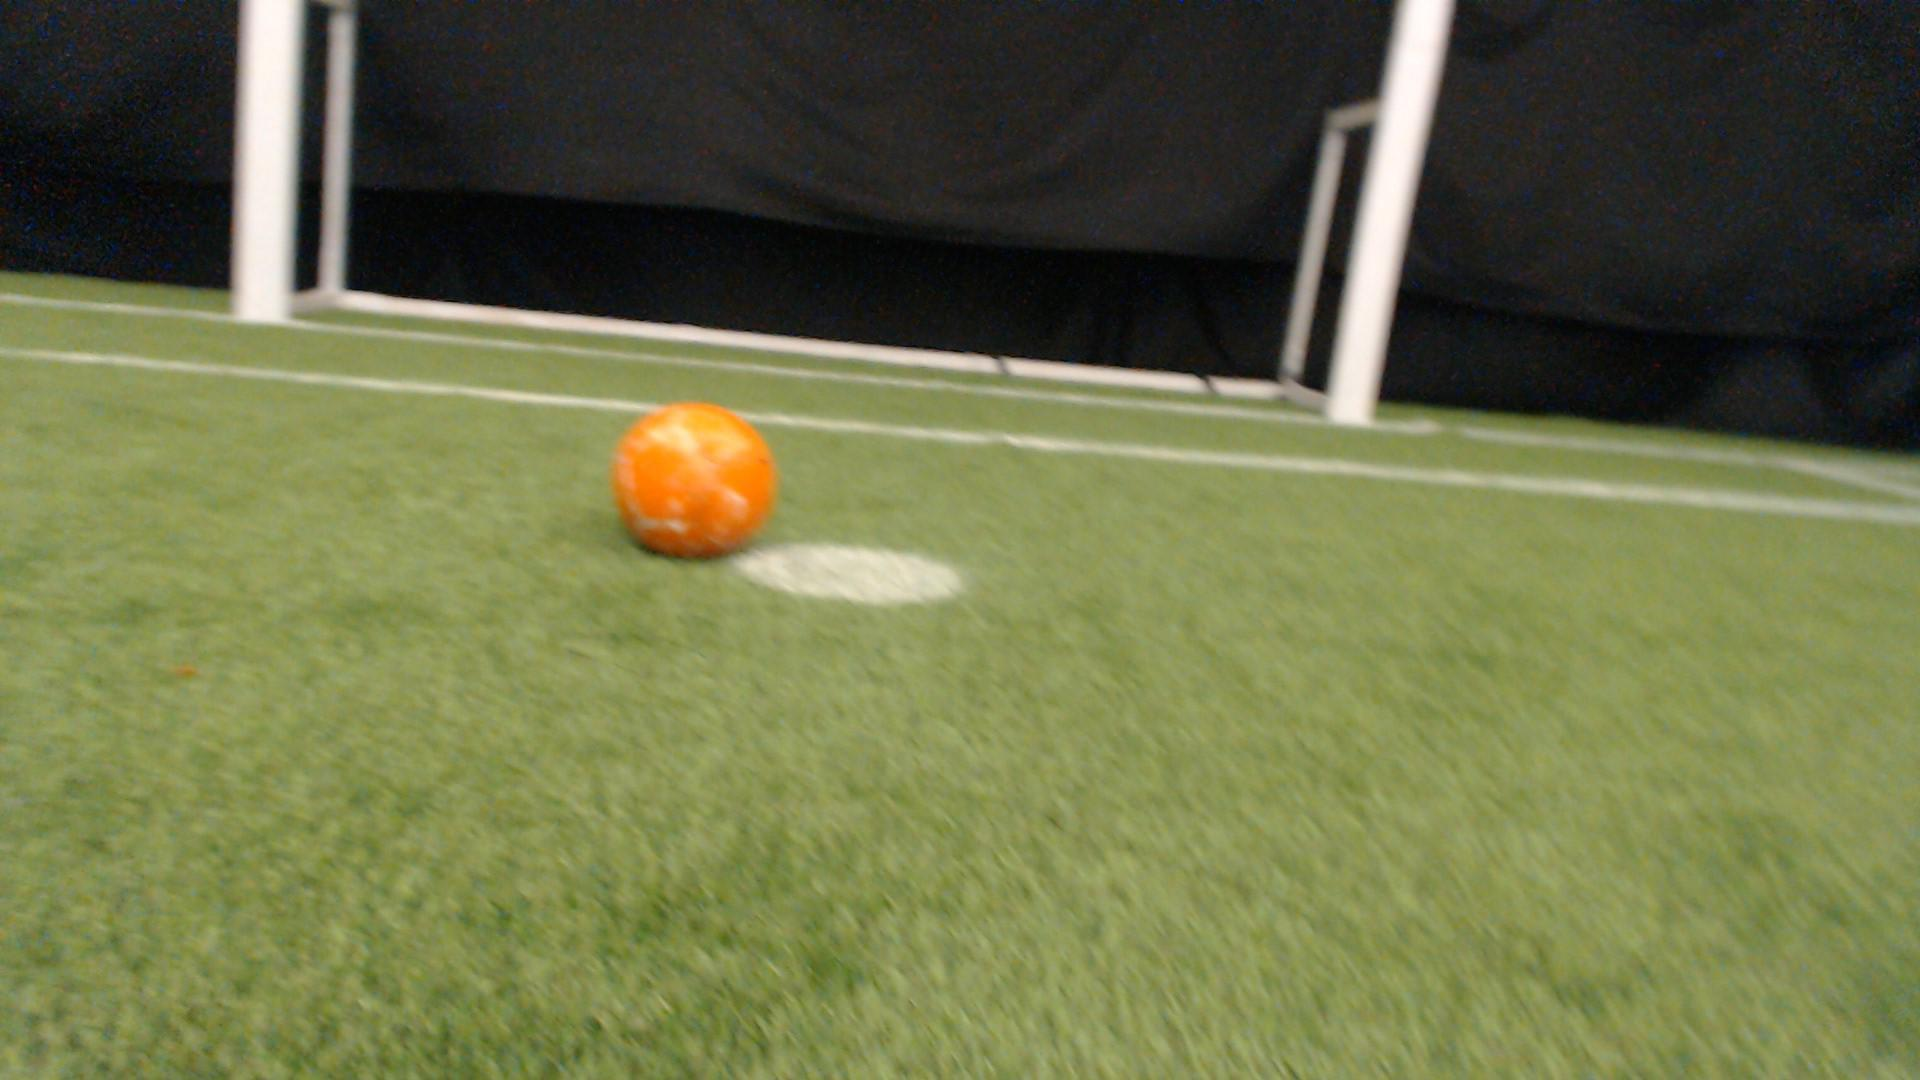bola: (595, 389, 791, 564)
